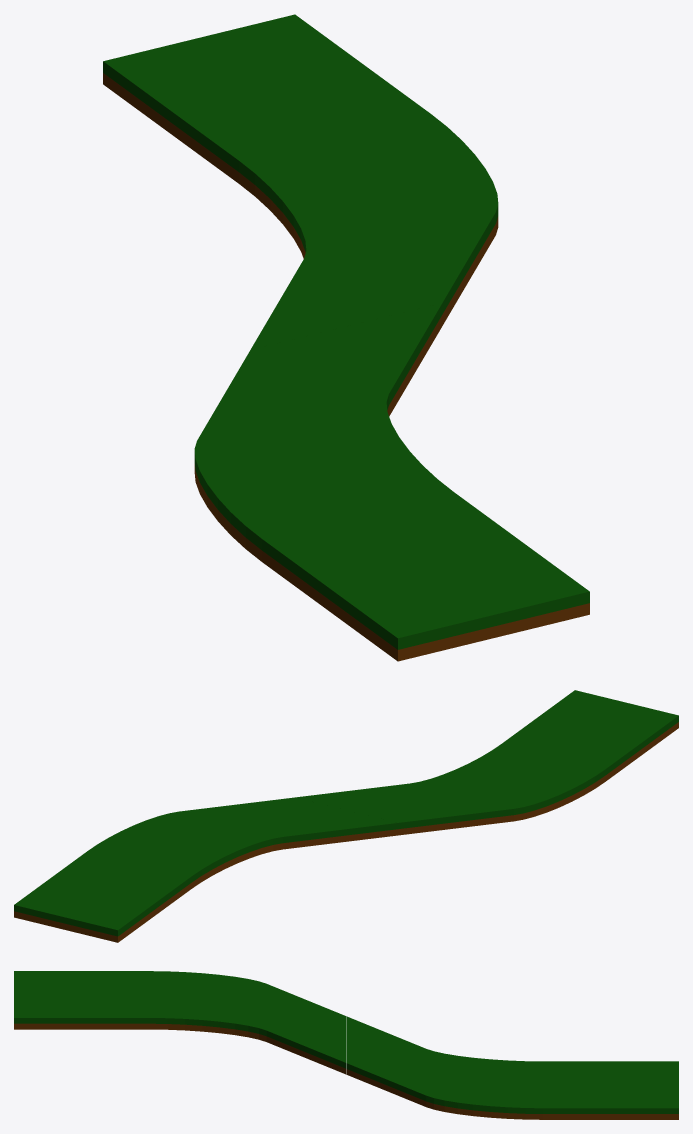
Rendered from PIEZA ESCENARIO 8.fbx.
3 renders of one model, top to bottom at view 1: azimuth 30°, elevation 25°; view 2: azimuth 150°, elevation 25°; view 3: azimuth 270°, elevation 25°, orthographic. The views are drawn at different scales.
Parts seen in each view (by area): view 1: Suelo 1.003; view 2: Suelo 1.003; view 3: Suelo 1.003.
Boxes of the visible parts, <box> form: Suelo 1.003: <box>103,14,589,661</box>; Suelo 1.003: <box>14,690,678,942</box>; Suelo 1.003: <box>14,971,678,1119</box>.
Bounding box in the file's own units: 4142 × 163 × 8487.
